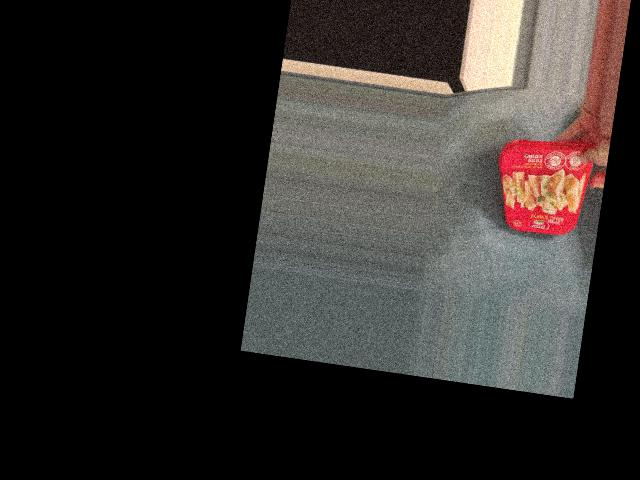cheese: (489, 125, 599, 243)
